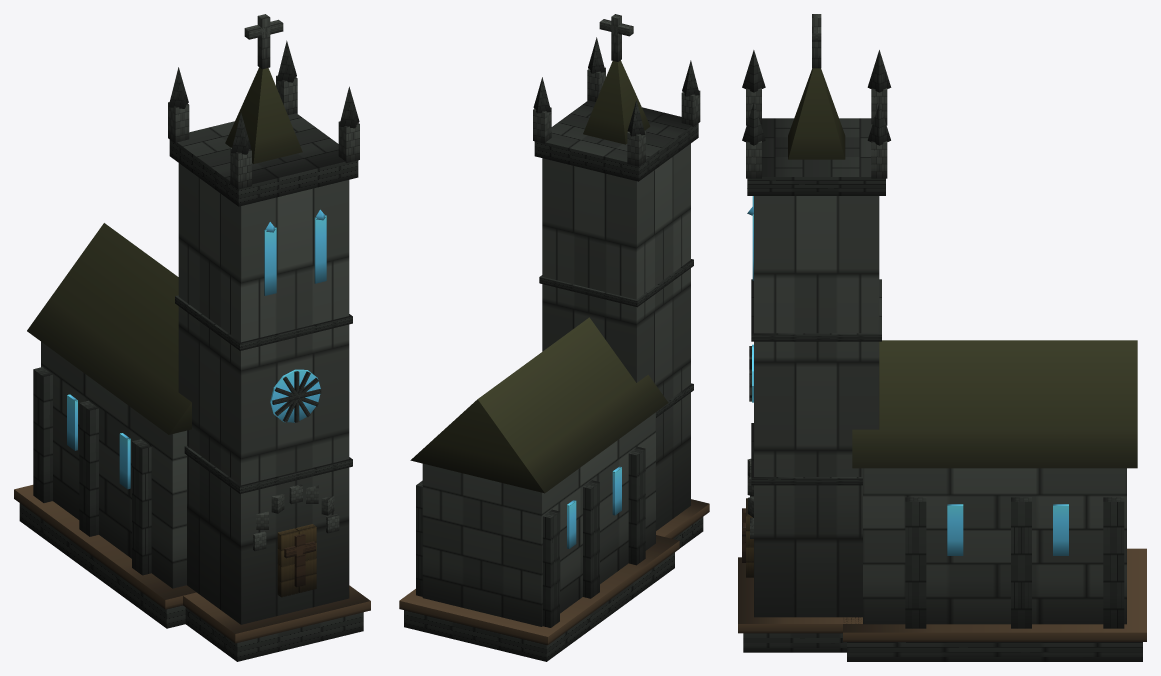
Rendered from chapel.obj.
The picture shows the model from 3 angles, left to right: view 1: azimuth 30°, elevation 25°; view 2: azimuth 150°, elevation 25°; view 3: azimuth 270°, elevation 25°; orthographic projection. The views are drawn at different scales.
Visible parts, largest first — view 1: chapel; view 2: chapel; view 3: chapel.
Boxes of the visible parts, x1,y1,x2,y2 form: chapel: (14, 14, 370, 661); chapel: (399, 14, 709, 661); chapel: (738, 14, 1146, 661).
Bounding box in the file's own units: 1.5 × 5.06 × 3.1.
Materials: 1 (1 with a texture image).
